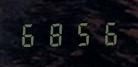eight: (43, 20, 67, 47)
five: (68, 20, 92, 46)
six: (18, 20, 42, 47), (93, 19, 117, 46)
